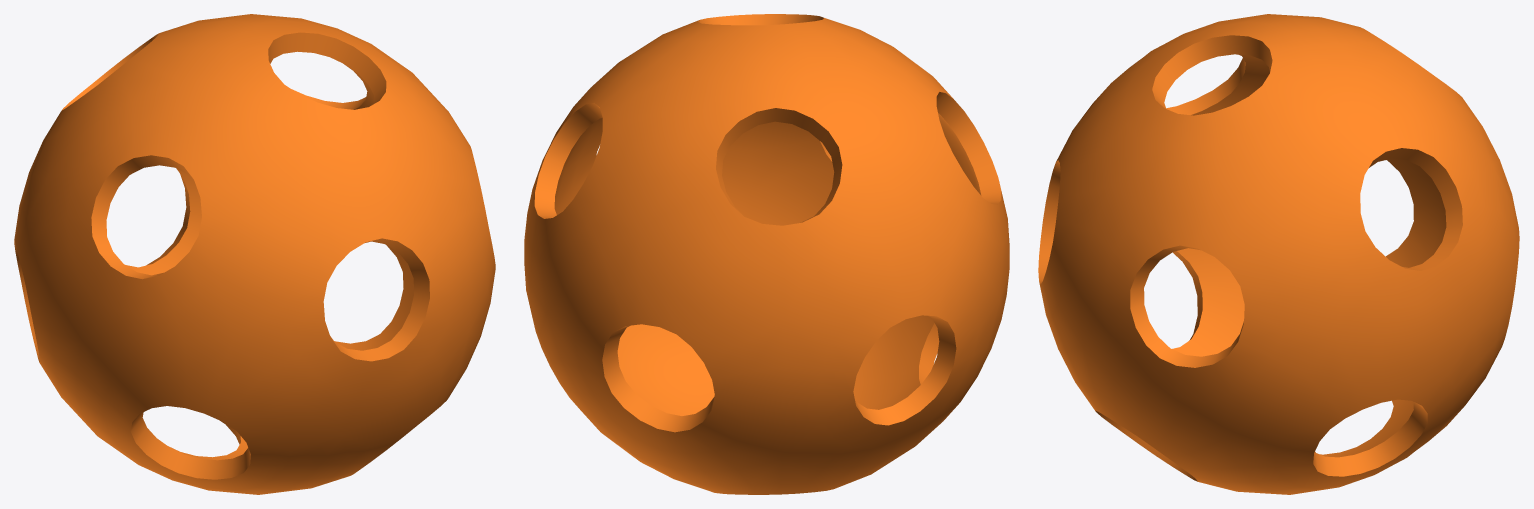
File: Pickleball_Orange.fbx
3 views of the same model, side by side, from view 1: azimuth 30°, elevation 25°; view 2: azimuth 150°, elevation 25°; view 3: azimuth 270°, elevation 25° (orthographic).
Visible parts, largest first — view 1: Pickleball_Orange; view 2: Pickleball_Orange; view 3: Pickleball_Orange.
Boxes of the visible parts, x1,y1,x2,y2 form: Pickleball_Orange: (14,14,495,494); Pickleball_Orange: (524,14,1009,494); Pickleball_Orange: (1038,14,1519,494).
Bounding box in the file's own units: 92.7 × 92.6 × 92.6.
